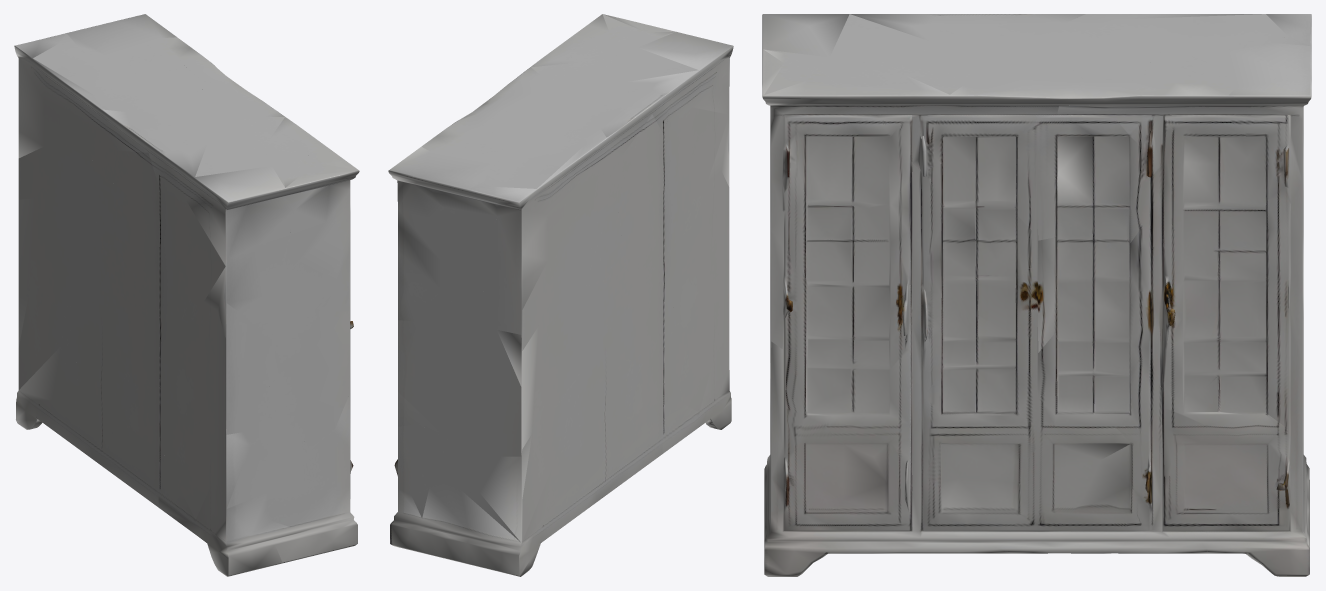
File: cabinet-tripo.glb
The picture shows the model from 3 angles, left to right: view 1: azimuth 30°, elevation 25°; view 2: azimuth 150°, elevation 25°; view 3: azimuth 270°, elevation 25°; orthographic projection. The views are drawn at different scales.
Visible parts, largest first — view 1: tripo_node_d3c6a6f4-09de-43dd-a225-c555cc86be43; view 2: tripo_node_d3c6a6f4-09de-43dd-a225-c555cc86be43; view 3: tripo_node_d3c6a6f4-09de-43dd-a225-c555cc86be43.
Part boxes in pixels (bbox=[...]): tripo_node_d3c6a6f4-09de-43dd-a225-c555cc86be43: bbox=[14, 14, 359, 576]; tripo_node_d3c6a6f4-09de-43dd-a225-c555cc86be43: bbox=[388, 14, 733, 576]; tripo_node_d3c6a6f4-09de-43dd-a225-c555cc86be43: bbox=[762, 14, 1311, 576].
Size of the model in its own units: 0.3681 by 0.97 by 1.
1 material, 1 textured.
